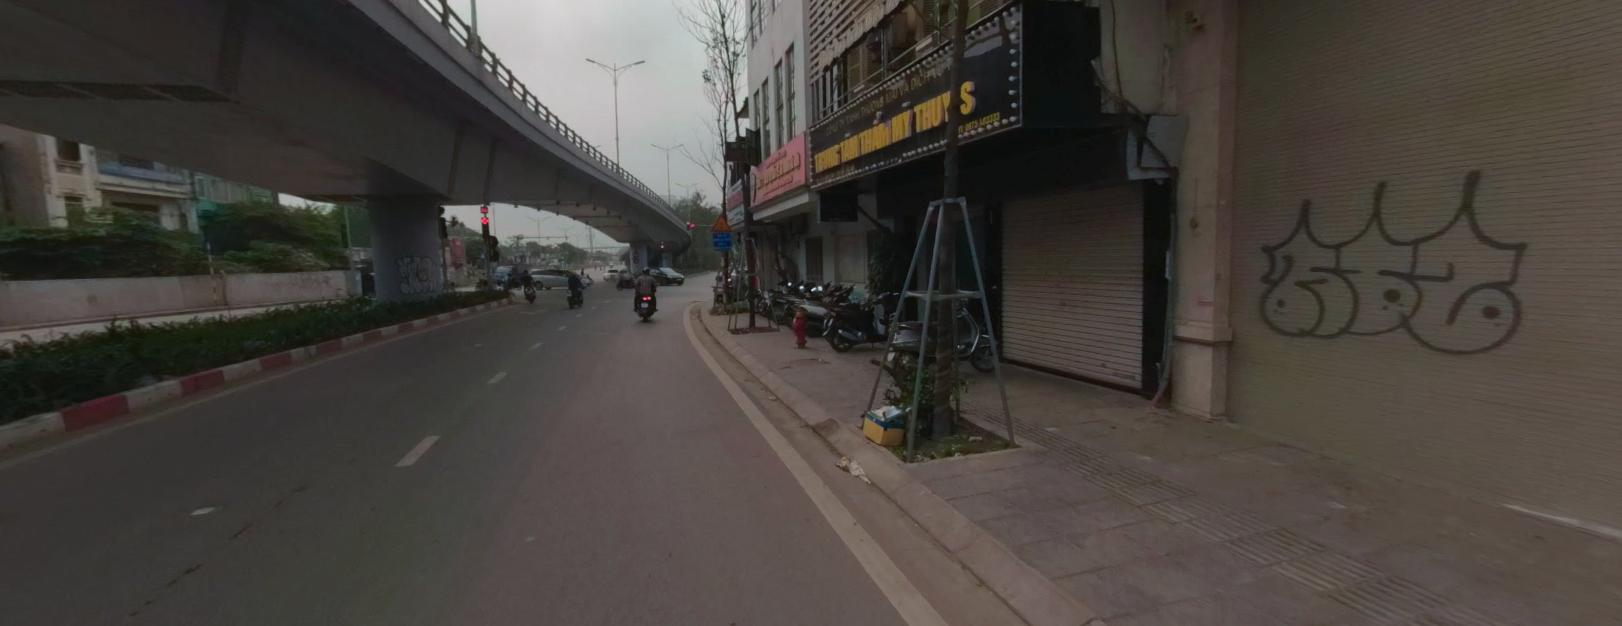Nguy hiem: (710, 212, 731, 231)
